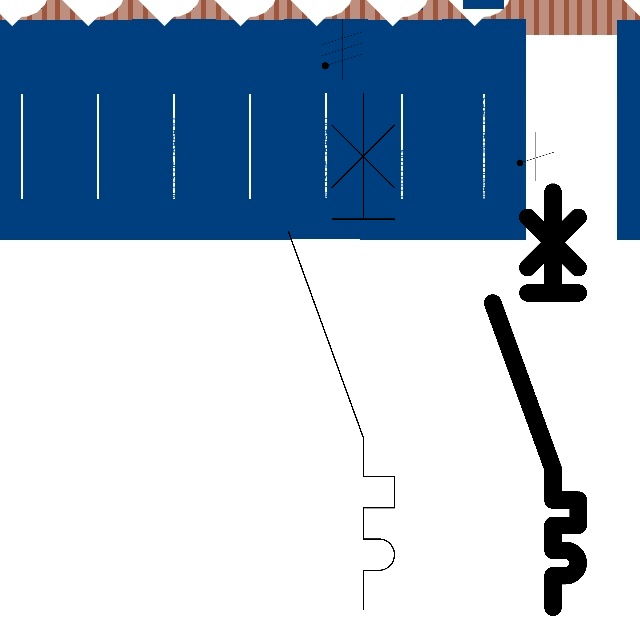interruptor_termomagnetico: (275, 80, 408, 622), (482, 181, 589, 617)
